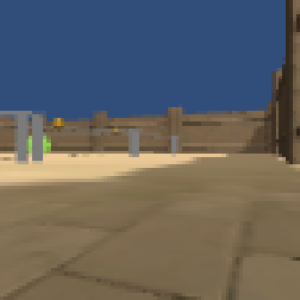goodGoal: (43, 132, 50, 154)
goodGoalMulti: (53, 117, 63, 128), (112, 127, 118, 137)
wall: (16, 111, 29, 164), (32, 112, 44, 162), (129, 128, 139, 159), (169, 133, 179, 153)
